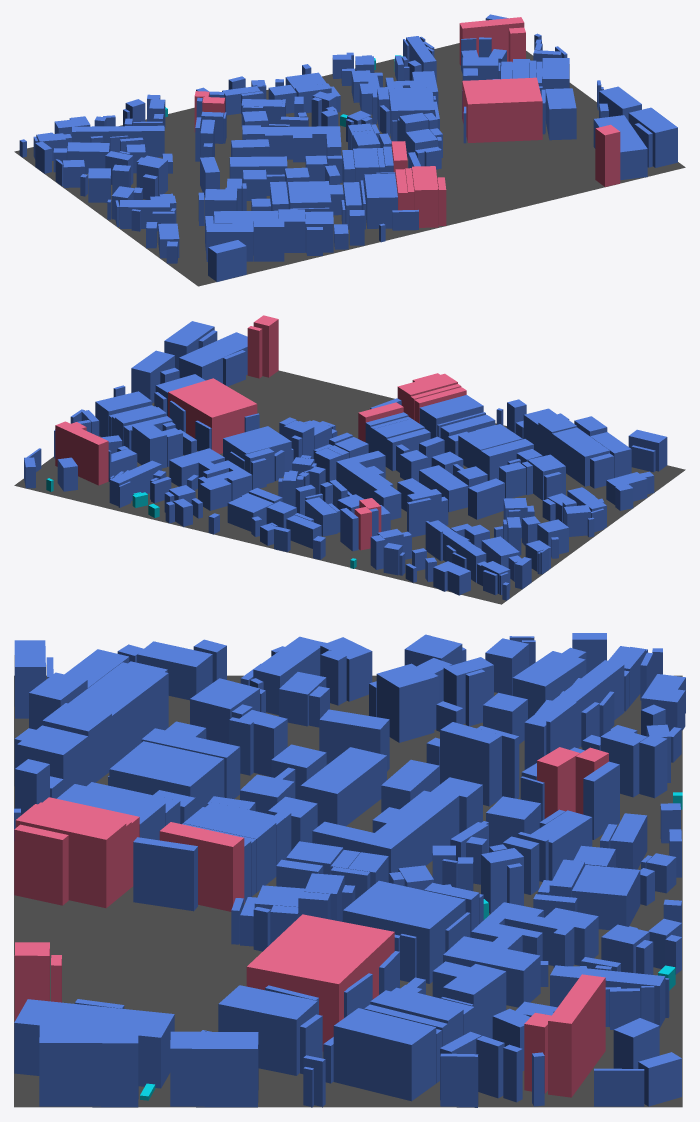
3 renders of one model, top to bottom at view 1: azimuth 30°, elevation 25°; view 2: azimuth 150°, elevation 25°; view 3: azimuth 270°, elevation 25°, orthographic. The views are drawn at different scales.
Size of the model in its own units: 652 by 66.51 by 429.
